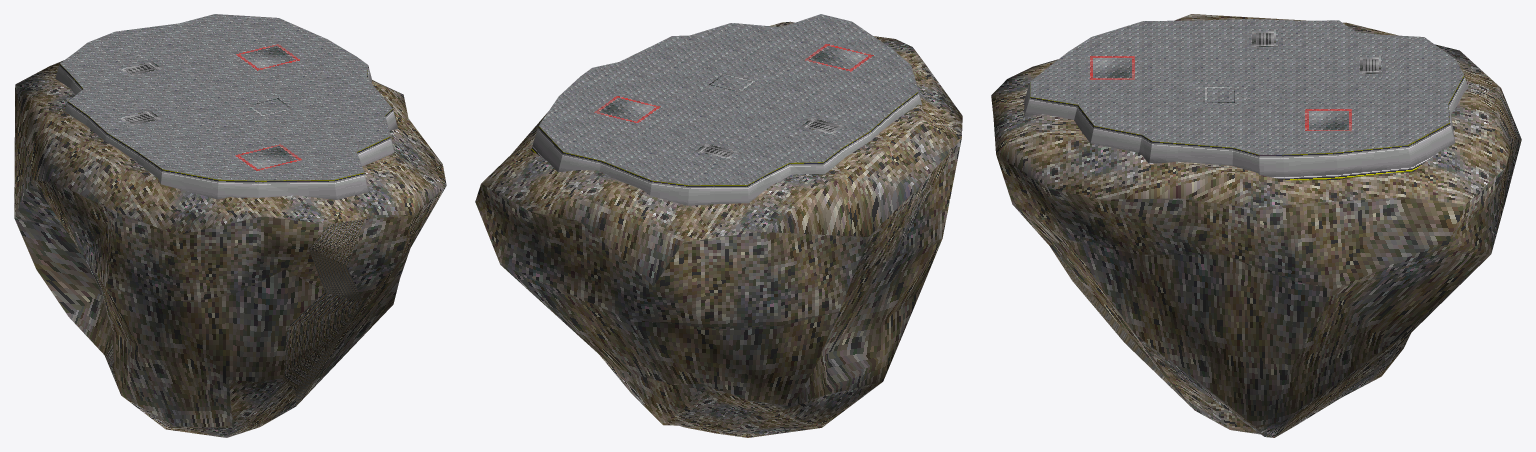
The model's file is AsteroidNeutral.glb.
The picture shows the model from 3 angles, left to right: view 1: azimuth 30°, elevation 25°; view 2: azimuth 150°, elevation 25°; view 3: azimuth 270°, elevation 25°; orthographic projection. The views are drawn at different scales.
Parts seen in each view (by area): view 1: AsteroidNeutral; view 2: AsteroidNeutral; view 3: AsteroidNeutral.
Boxes of the visible parts, bbox=[...] form: AsteroidNeutral: bbox=[14, 14, 446, 437]; AsteroidNeutral: bbox=[475, 14, 962, 437]; AsteroidNeutral: bbox=[991, 14, 1521, 437].
Size of the model in its own units: 151 by 131 by 185.
Materials: 8 (8 with a texture image).
